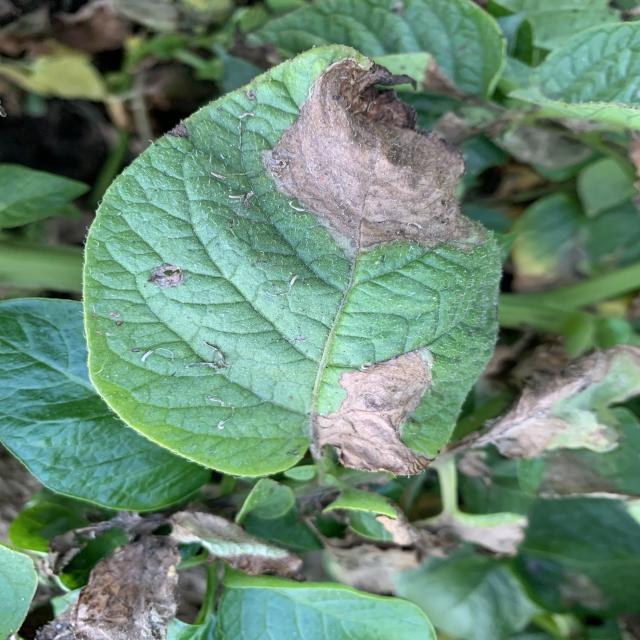lateblight: (263, 59, 485, 255), (315, 349, 433, 475), (148, 264, 185, 288)
